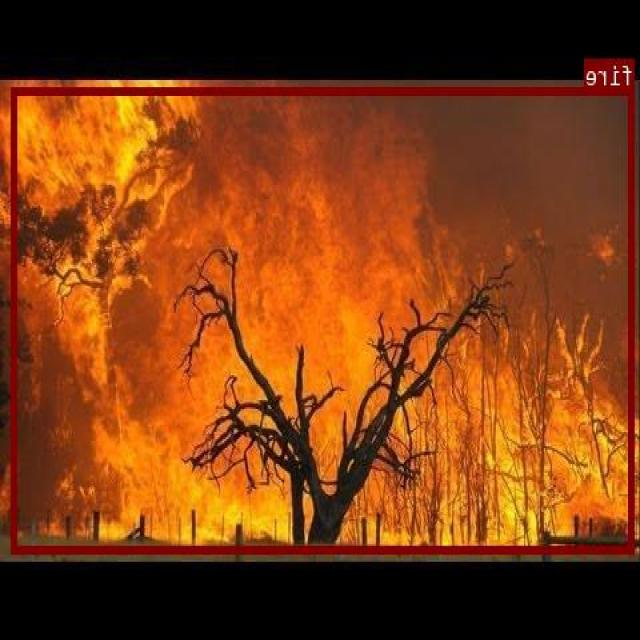fire: (12, 86, 635, 552)
